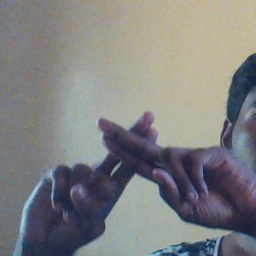F: (58, 106, 210, 217)
